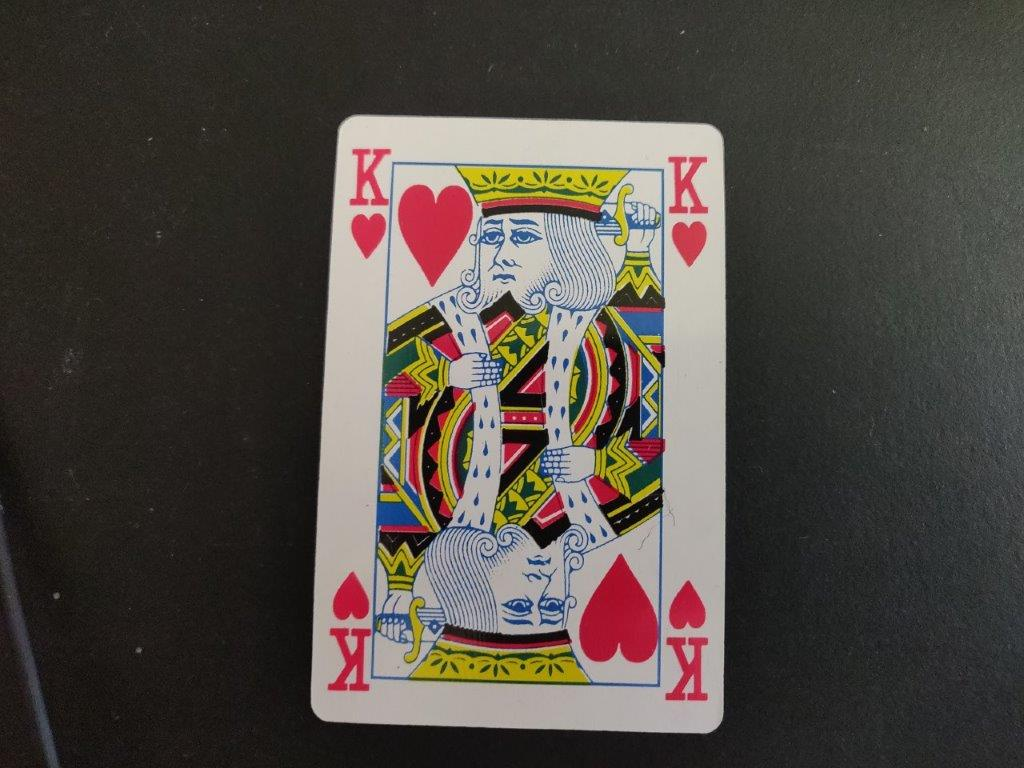KH: (662, 152, 715, 274), (345, 146, 396, 264)
